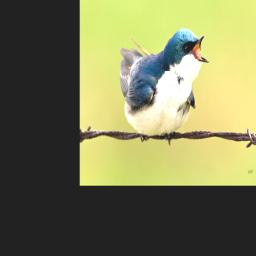Swallow: (119, 25, 212, 145)
